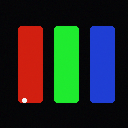0 point: (22, 98, 26, 102)
